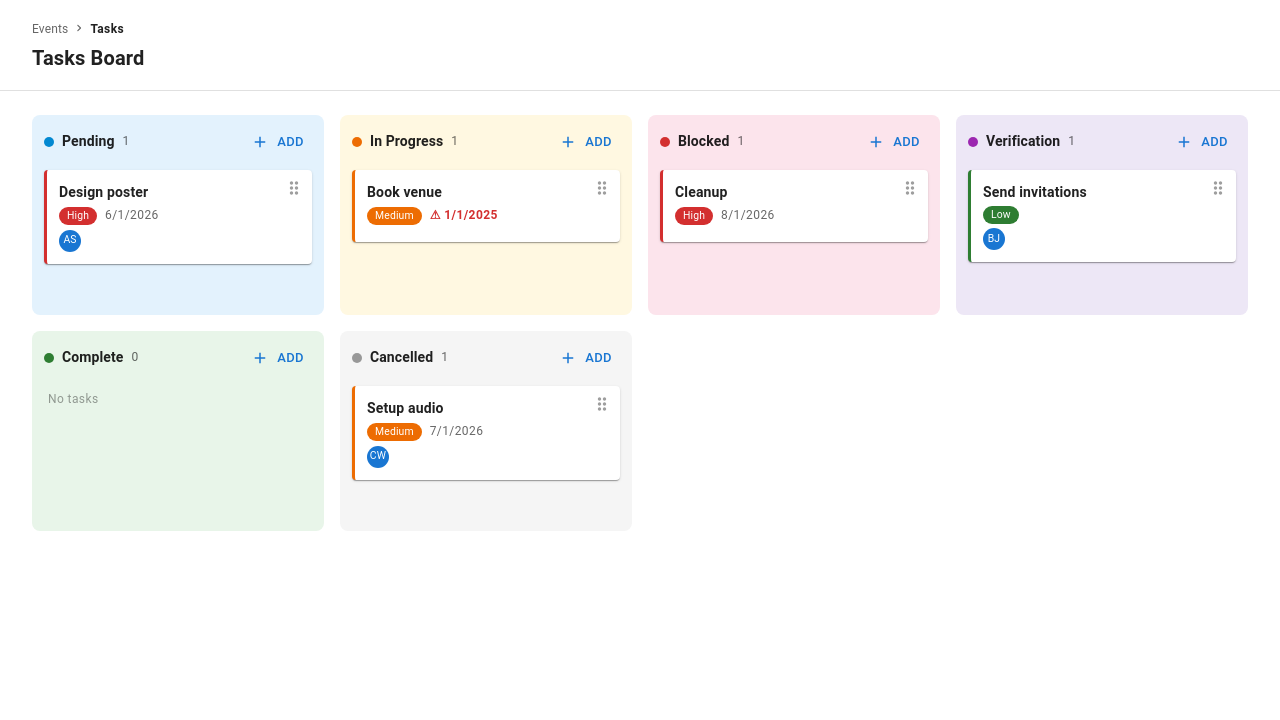
Test: TasksKanbanPage - Extended Coverage › does not submit task with empty title
Click the button "Add" in the row of "Pending" at (279, 142), box x1=245 y1=127 x2=312 y2=158
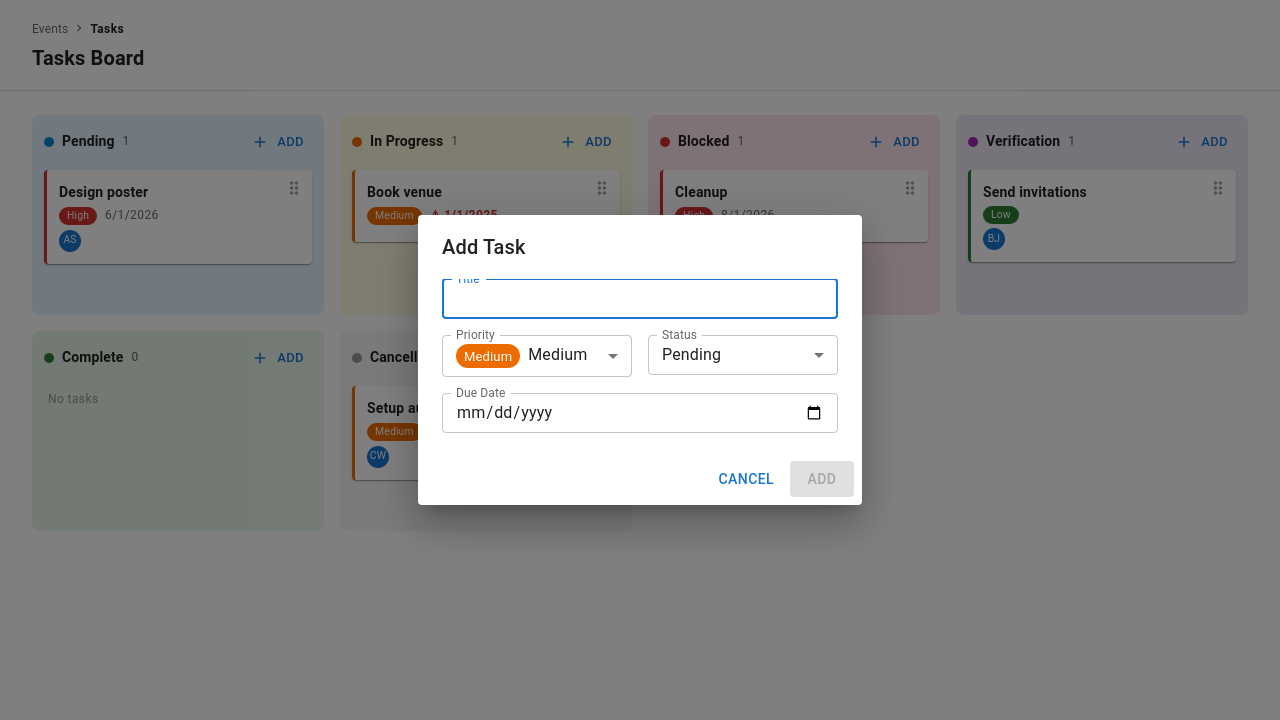
Expected: the button "Add" is disabled, x1=790 y1=461 x2=854 y2=497
